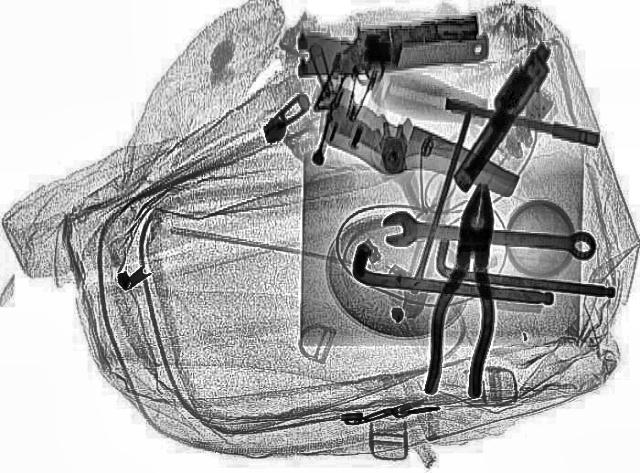Gun: (309, 13, 487, 166), (436, 38, 564, 192)
Pliers: (419, 181, 515, 398)
Wrench: (377, 208, 599, 262)
